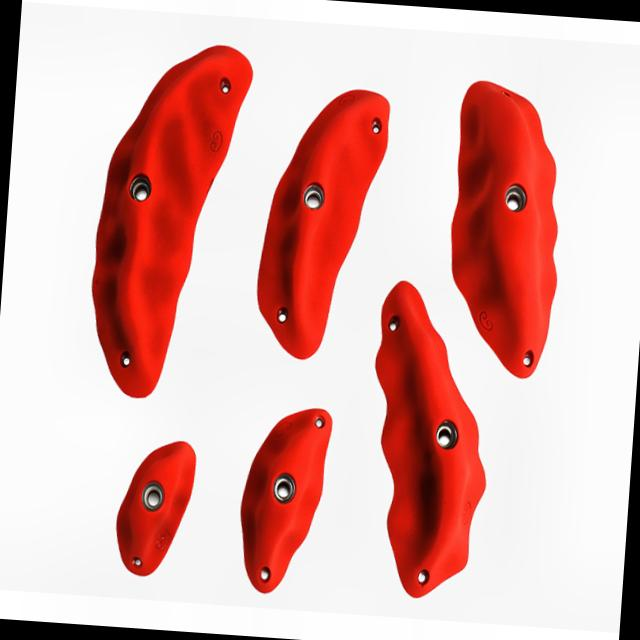Hold: (93, 38, 258, 400), (359, 277, 500, 604), (442, 76, 574, 377), (258, 78, 389, 364), (231, 403, 338, 597), (110, 434, 198, 579)
